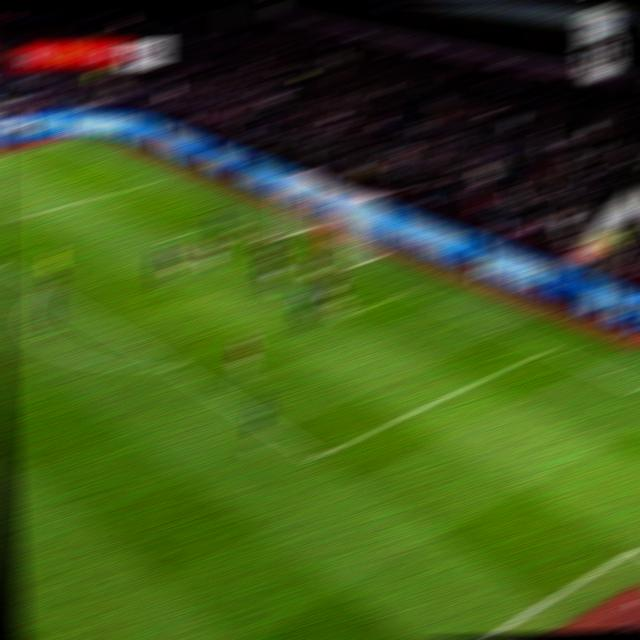bigarea_bottom_inner: (301, 442, 334, 470)
bigarea_bottom_outter: (532, 339, 558, 359)
bigarea_top_outter: (141, 174, 165, 187)
bottom_arc_area_intersection: (158, 355, 185, 375)
corner: (49, 136, 78, 151)
smallarea_bottom_inner: (328, 305, 355, 324)
smallarea_bottom_outter: (394, 282, 419, 299)
smallarea_top_inner: (161, 227, 186, 242)
smallarea_top_outter: (224, 211, 249, 225)
top_arc_area_intersection: (28, 278, 52, 294)
